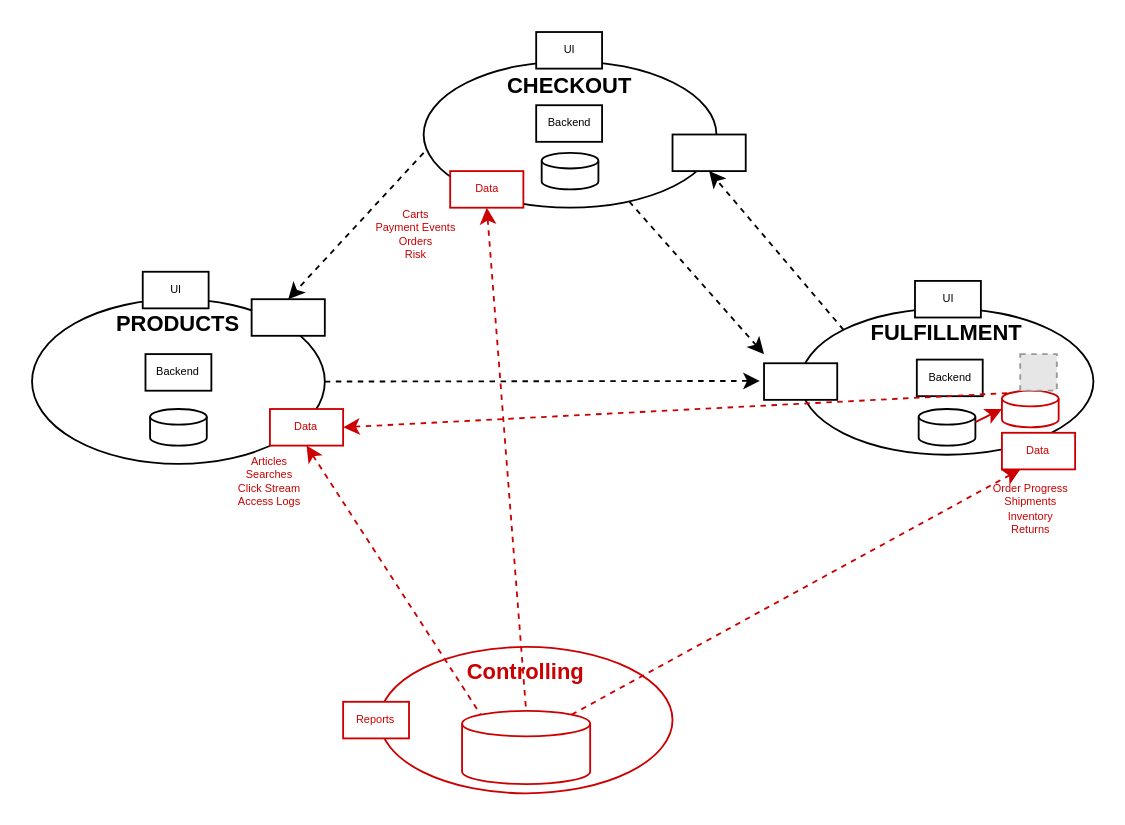
The diagram is 1125 pixels wide and 825 high, and some of its shapes have lost their labels. Grey dashed boxes stand in for pictures. The shapes that lost their labels are listed below. From the top down, each one's centre as x and y in pixels, then its label:
At [708,152]: "Orders API".
At [287,316]: "Articles API".
At [799,380]: "Inventory API".
